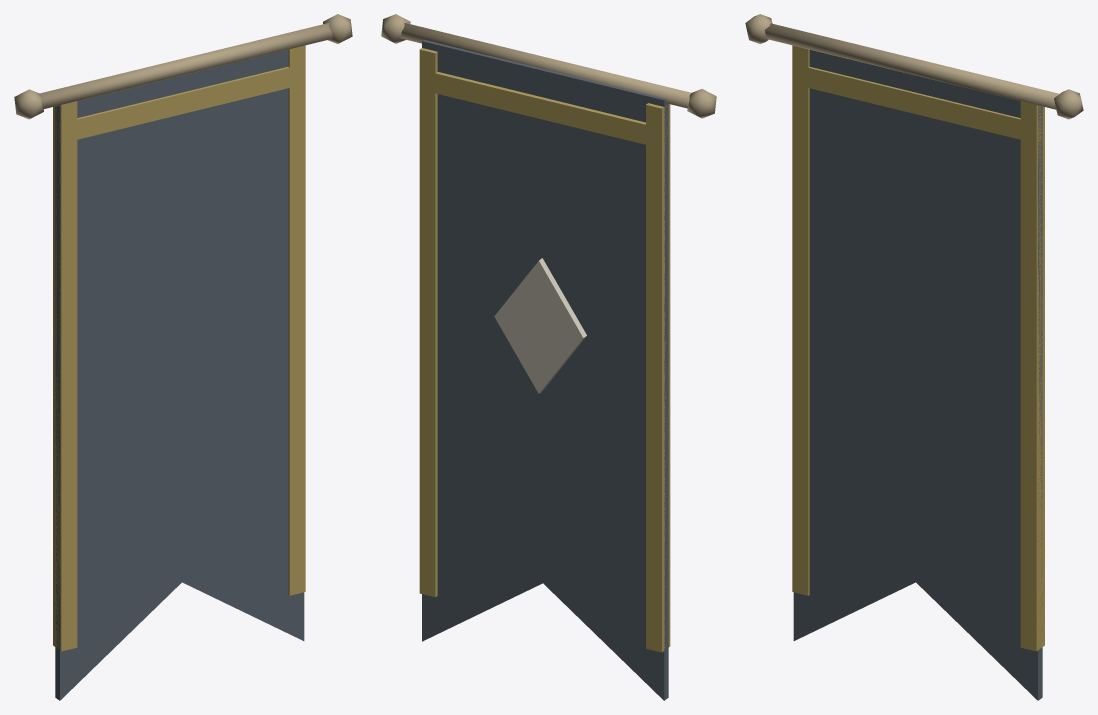
Rendered from giant_shelly_banner_v0.glb.
3 views of the same model, side by side, from view 1: azimuth 30°, elevation 25°; view 2: azimuth 150°, elevation 25°; view 3: azimuth 330°, elevation 25° (orthographic).
Parts seen in each view (by area): view 1: giant_shelly_banner_v0; view 2: giant_shelly_banner_v0; view 3: giant_shelly_banner_v0.
Part boxes in pixels (bbox=[...]): giant_shelly_banner_v0: bbox=[14, 14, 352, 700]; giant_shelly_banner_v0: bbox=[381, 14, 716, 700]; giant_shelly_banner_v0: bbox=[745, 14, 1083, 700].
Size of the model in its own units: 1.04 by 1.84 by 0.0933.
